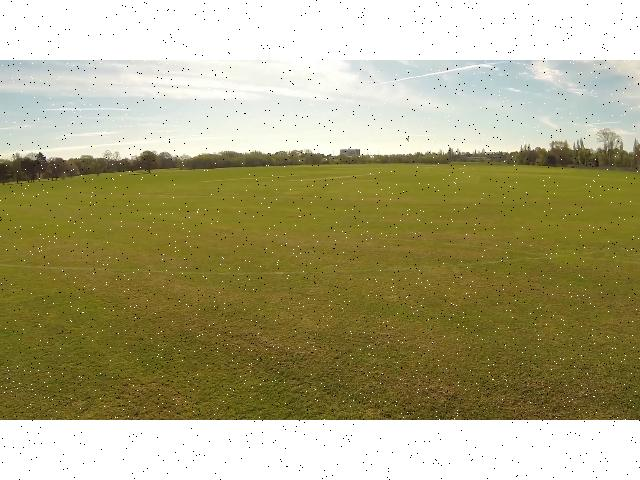Anti-Drone: (402, 134, 414, 142)
